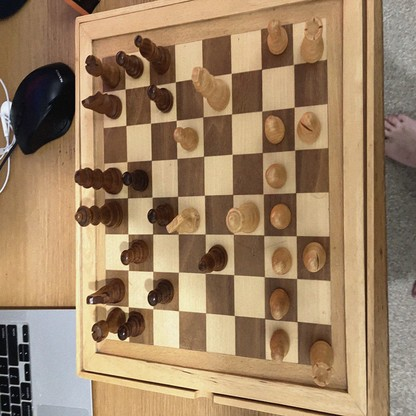bishop_black: (135, 35, 172, 73), (198, 245, 227, 274)
bishop_white: (298, 112, 322, 145), (302, 243, 326, 272)
king_black: (74, 169, 123, 194)
king_white: (191, 67, 231, 110), (165, 209, 199, 232)
knight_black: (82, 92, 123, 119), (86, 278, 126, 304)
pawn_black: (118, 312, 145, 339), (148, 85, 174, 112), (117, 52, 143, 79), (148, 280, 173, 307), (120, 241, 148, 264), (122, 170, 148, 192), (148, 204, 173, 226)
pawn_white: (267, 20, 288, 54), (270, 329, 290, 362), (270, 289, 290, 319), (174, 127, 199, 150), (265, 115, 285, 143), (273, 248, 293, 275), (266, 164, 287, 189), (271, 204, 292, 229)
queen_black: (74, 202, 122, 227)
queen_white: (227, 202, 259, 234)
rock_black: (85, 55, 121, 87), (92, 307, 124, 342)
rock_white: (310, 340, 335, 386), (302, 17, 324, 63)
